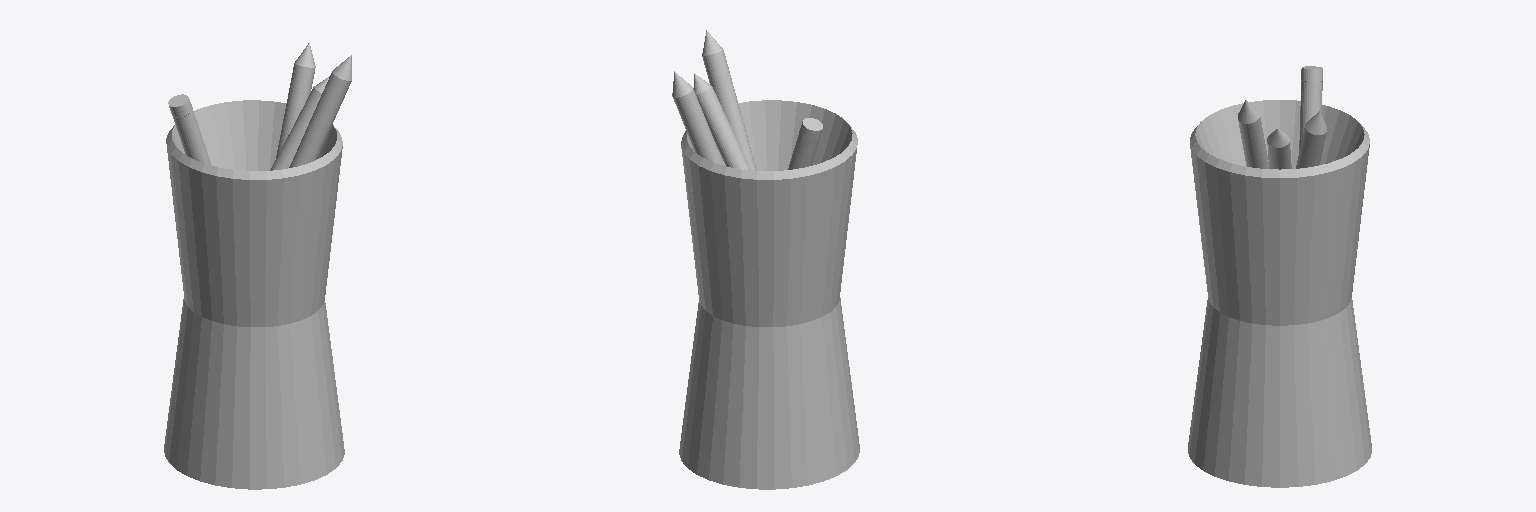
Rendered from pencilpot.obj.
The picture shows the model from 3 angles: view 1: azimuth 30°, elevation 25°; view 2: azimuth 150°, elevation 25°; view 3: azimuth 270°, elevation 25°; orthographic projection.
Parts seen in each view (by area): view 1: Mesh_penpot_Cube.001; view 2: Mesh_penpot_Cube.001; view 3: Mesh_penpot_Cube.001.
Part boxes in pixels (bbox=[...]): Mesh_penpot_Cube.001: bbox=[164, 42, 351, 489]; Mesh_penpot_Cube.001: bbox=[672, 30, 859, 489]; Mesh_penpot_Cube.001: bbox=[1188, 66, 1371, 487].
Bounding box in the file's own units: 2.72 × 6.35 × 2.74.